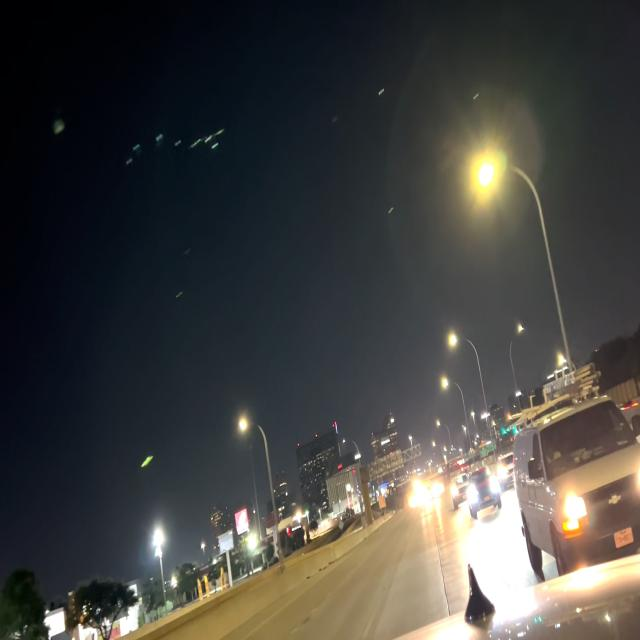back-of-sign: (369, 450, 405, 484)
